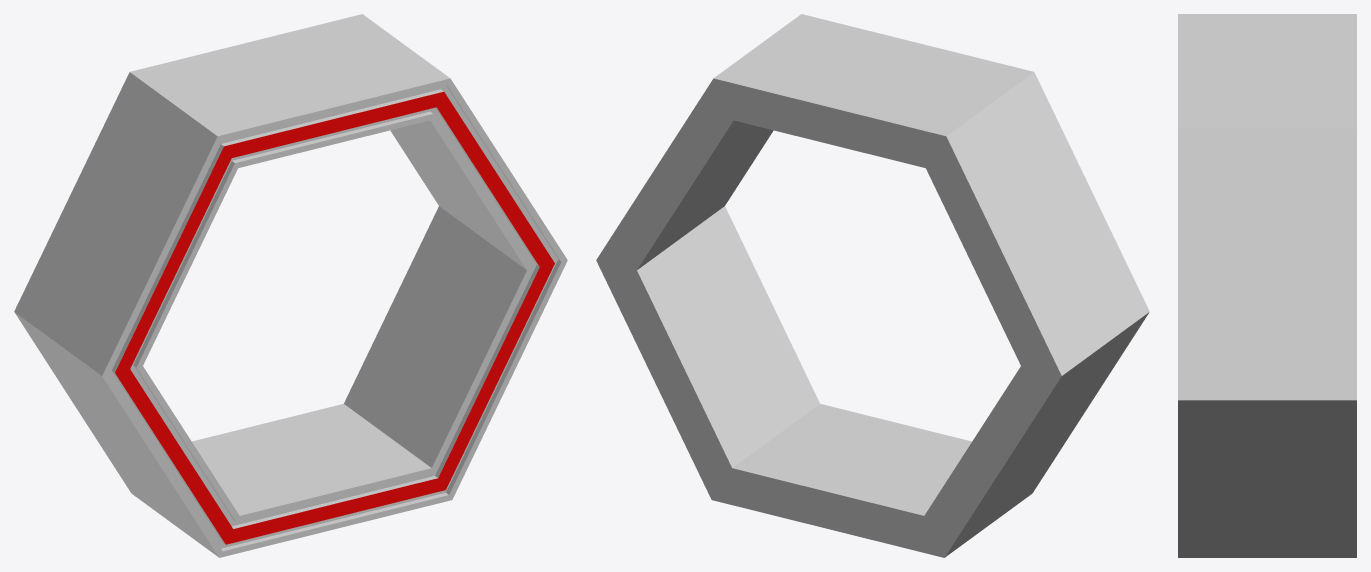
The model's file is bridgesection5.obj.
3 renders of one model, left to right at view 1: azimuth 30°, elevation 25°; view 2: azimuth 150°, elevation 25°; view 3: azimuth 270°, elevation 25°, orthographic.
Visible parts, largest first — view 1: object1; view 2: object1; view 3: object1.
Boxes of the visible parts, <box> form: object1: <box>14,14,567,557</box>; object1: <box>596,14,1149,557</box>; object1: <box>1178,14,1356,557</box>.
Size of the model in its own units: 16.81 by 14.6 by 5.5.
